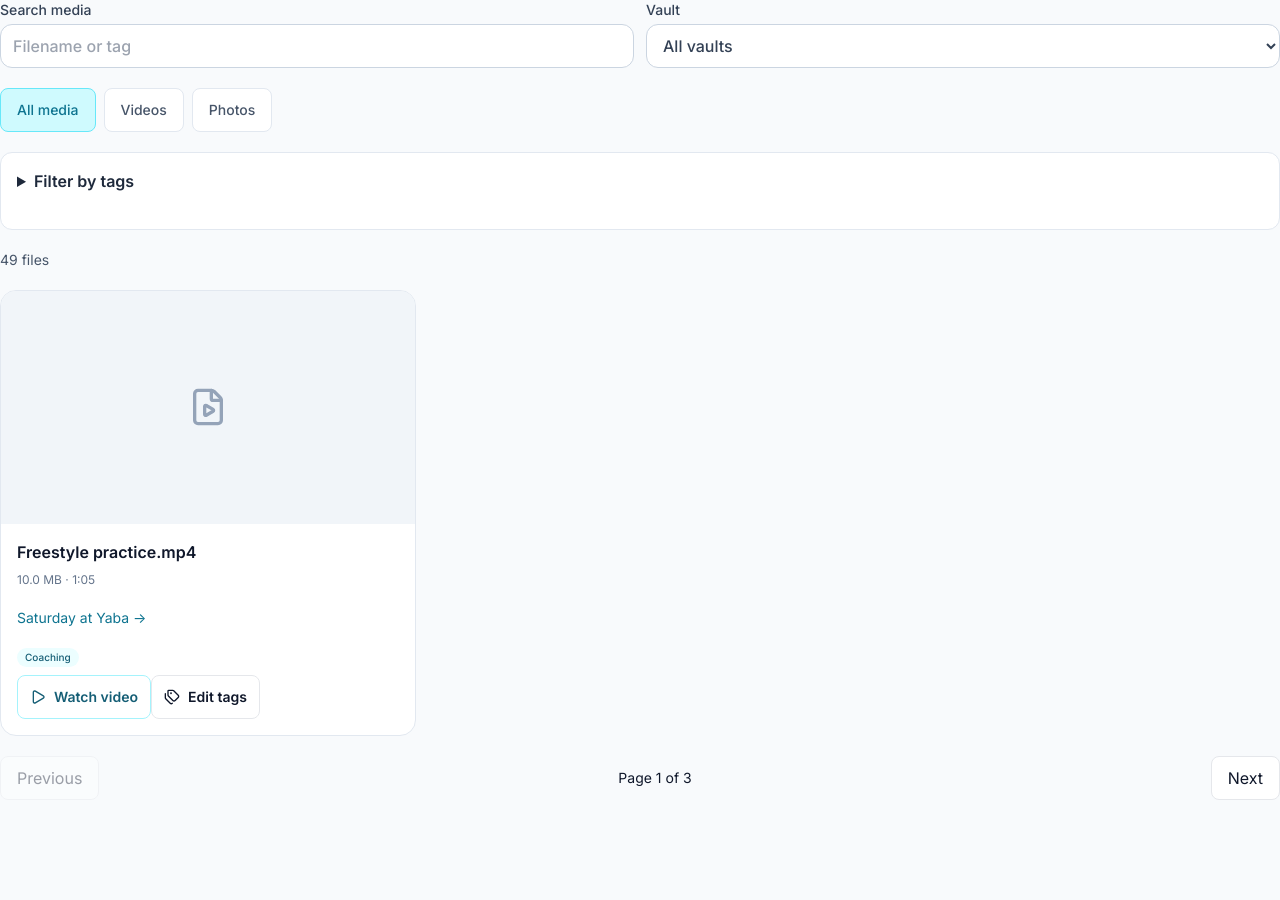
Scenario: Vault media library › saves existing and new tags to the selected file's actual vault
The width and height of the screenshot is (1280, 900).
Click the button "Edit tags" at [205, 697], box x1=151 y1=675 x2=260 y2=719
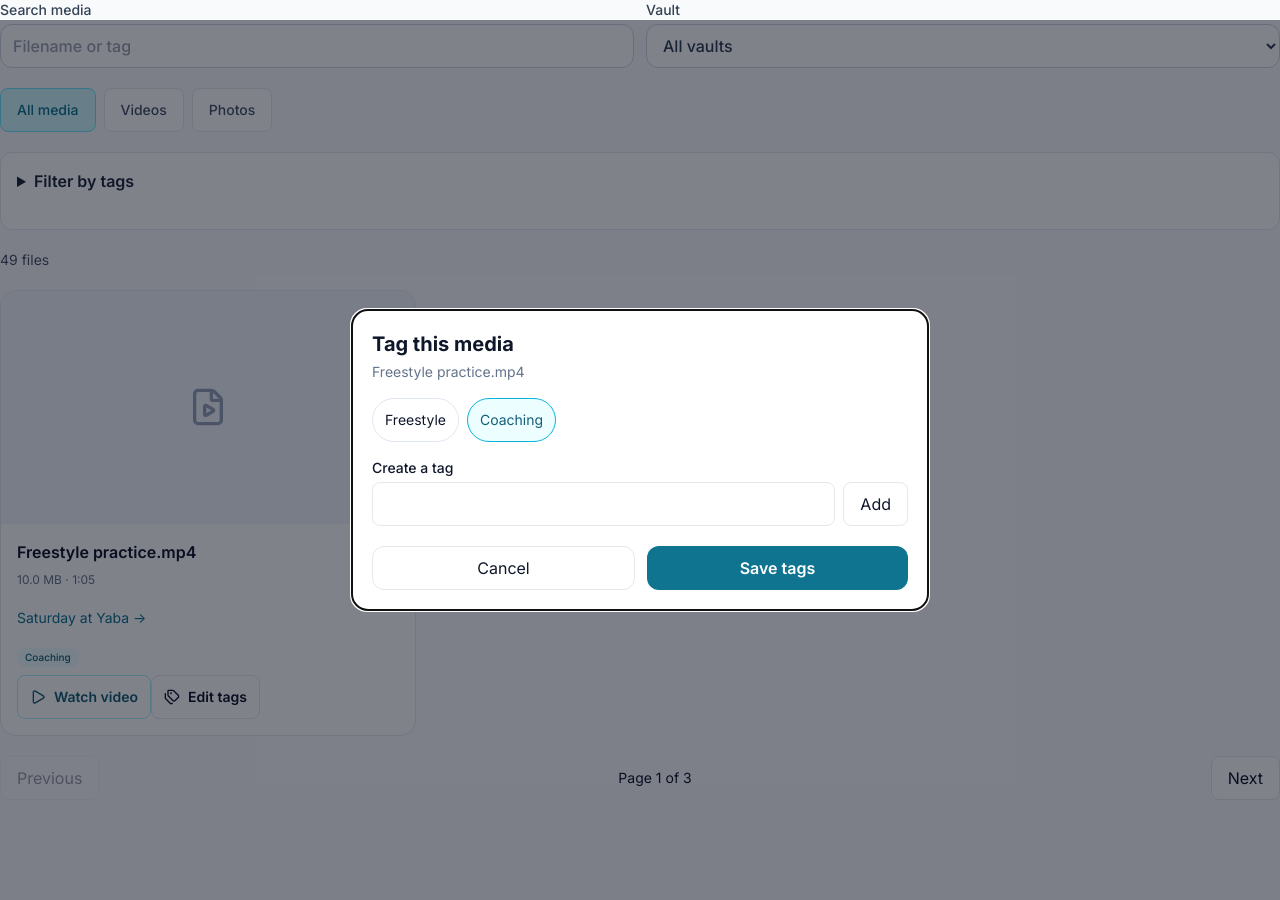
Click the button "Freestyle" at [416, 420], box x1=372 y1=398 x2=459 y2=442
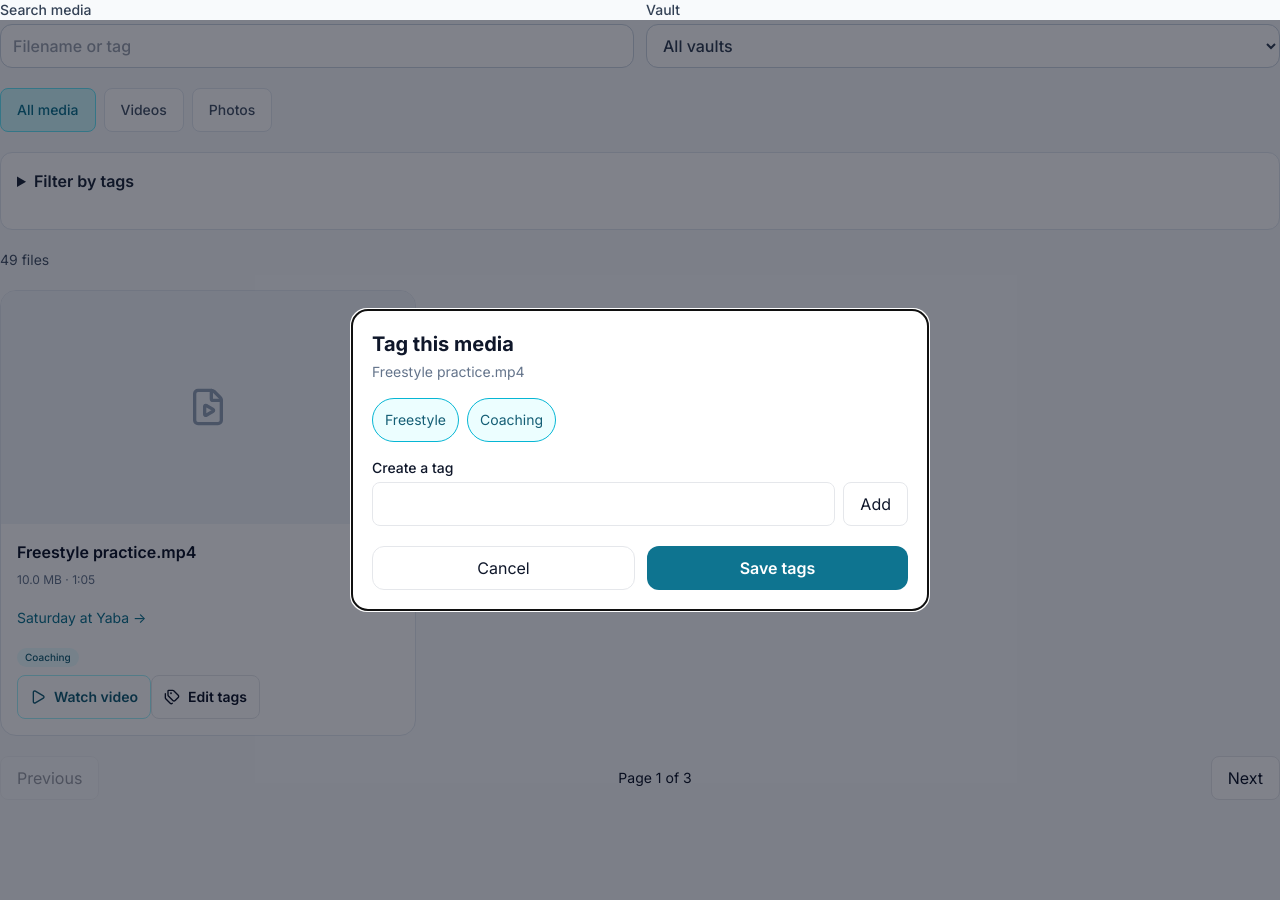
Type "  Week 12  progress " into the field labelled "Create a tag" at [604, 504], box x1=372 y1=482 x2=835 y2=526
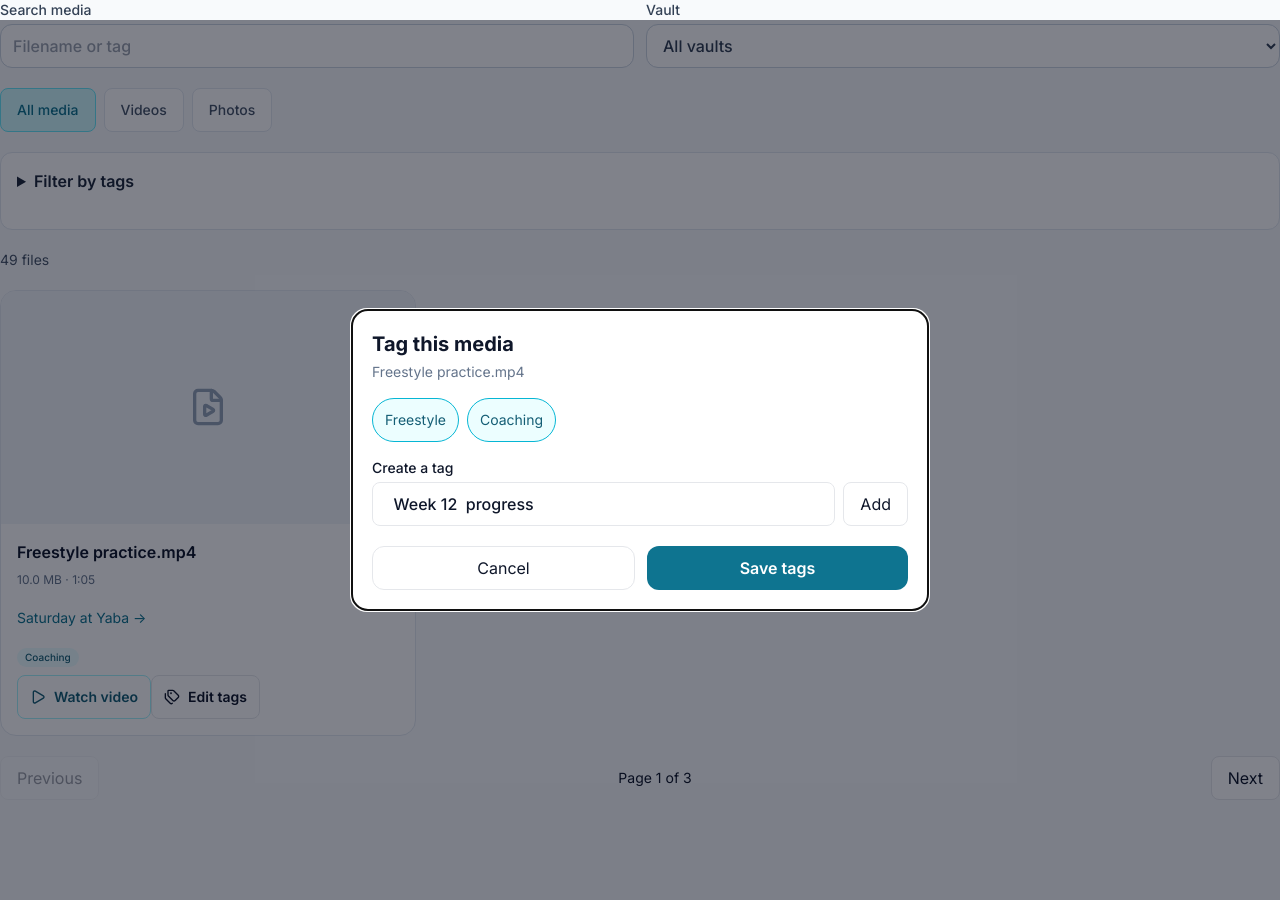
Click the button "Add" at [876, 504], box x1=843 y1=482 x2=908 y2=526
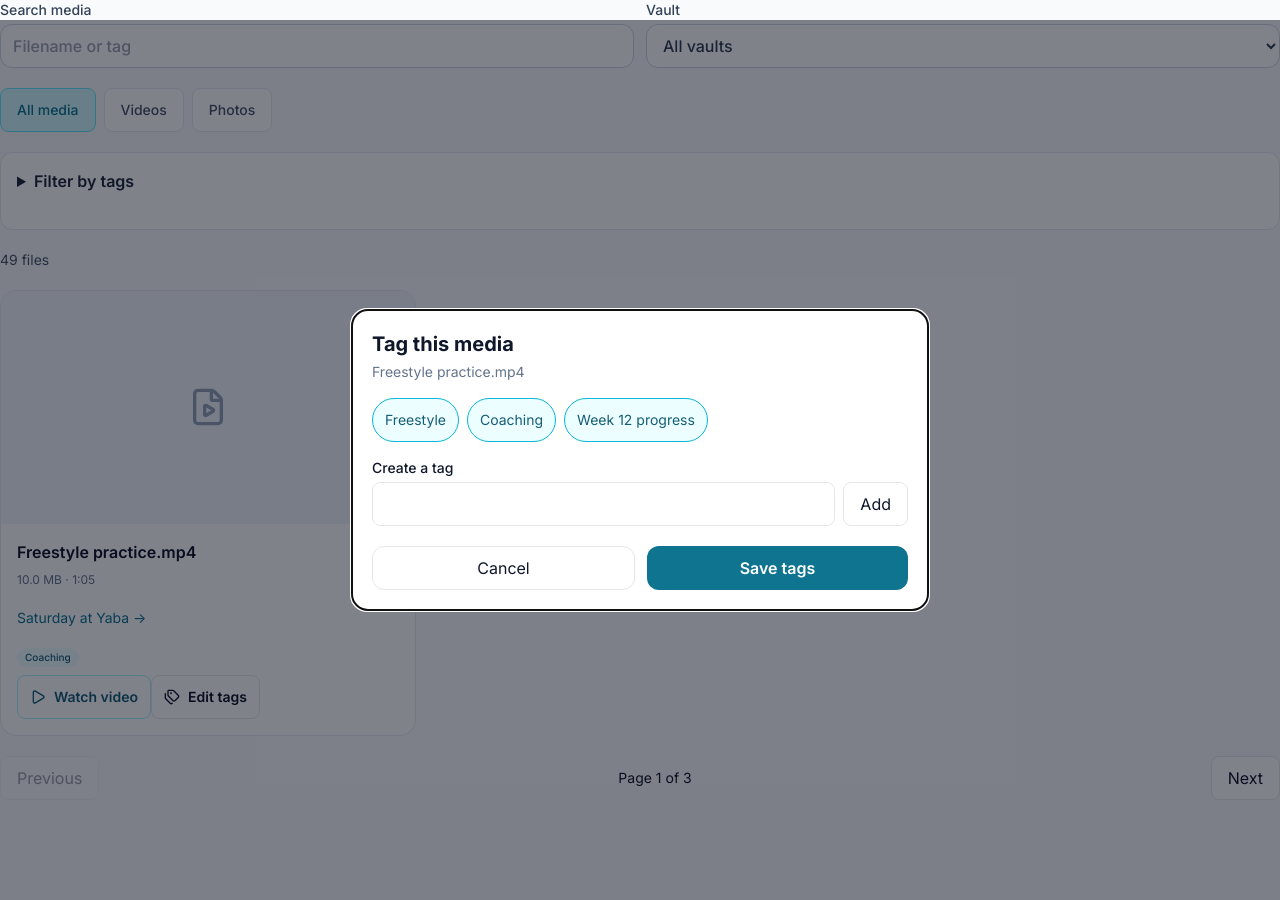
Click the button "Save tags" at [778, 568], box x1=647 y1=546 x2=908 y2=590
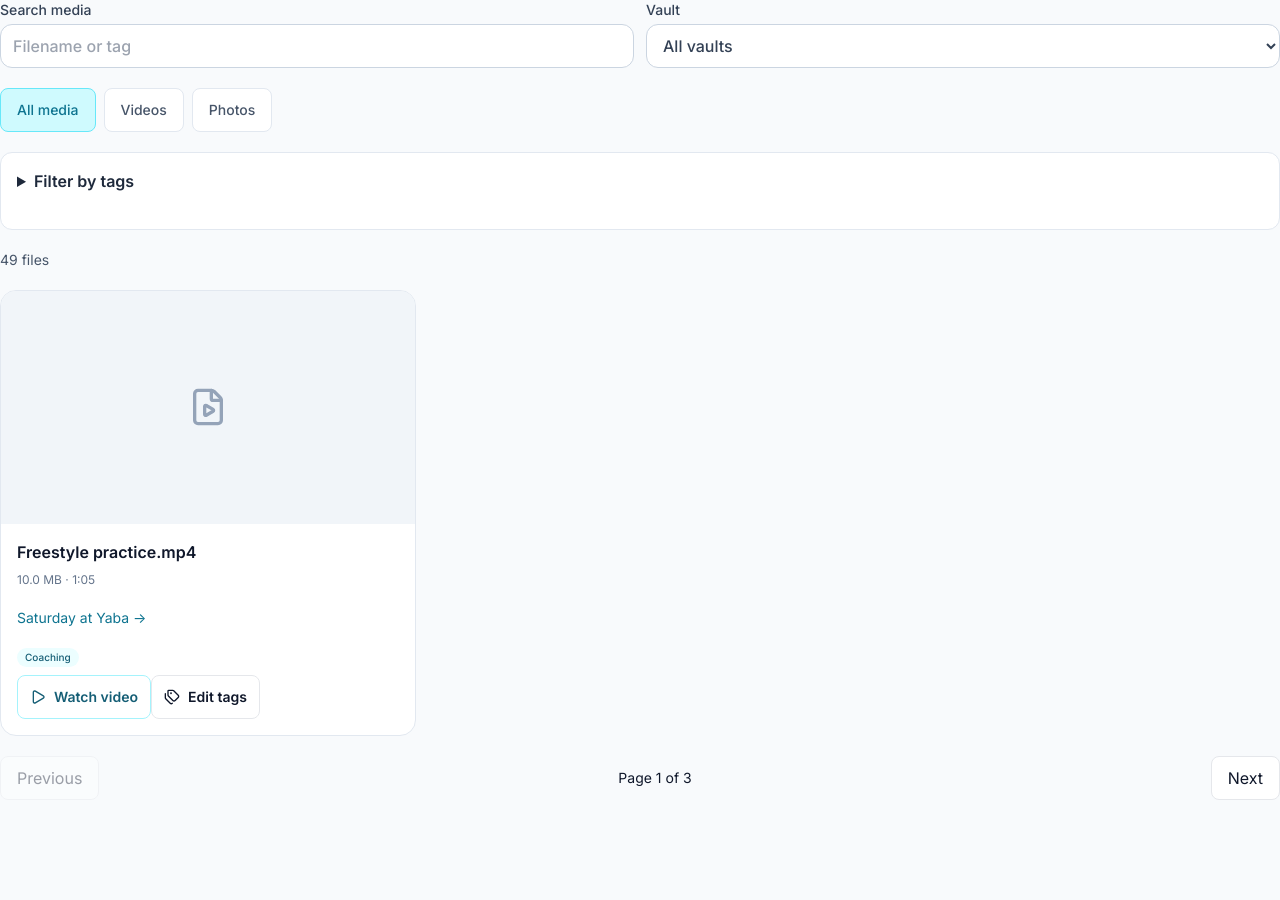
Expected: the dialog is gone
